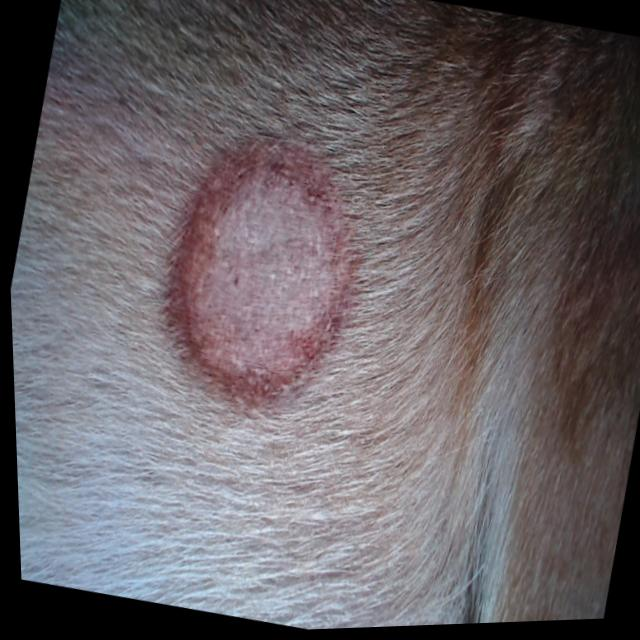ringworm: (139, 92, 384, 441)
